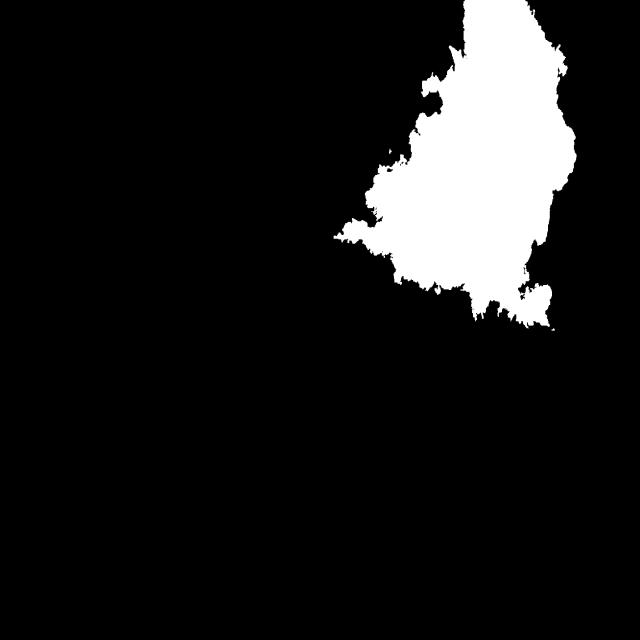fire: (326, 11, 575, 361)
